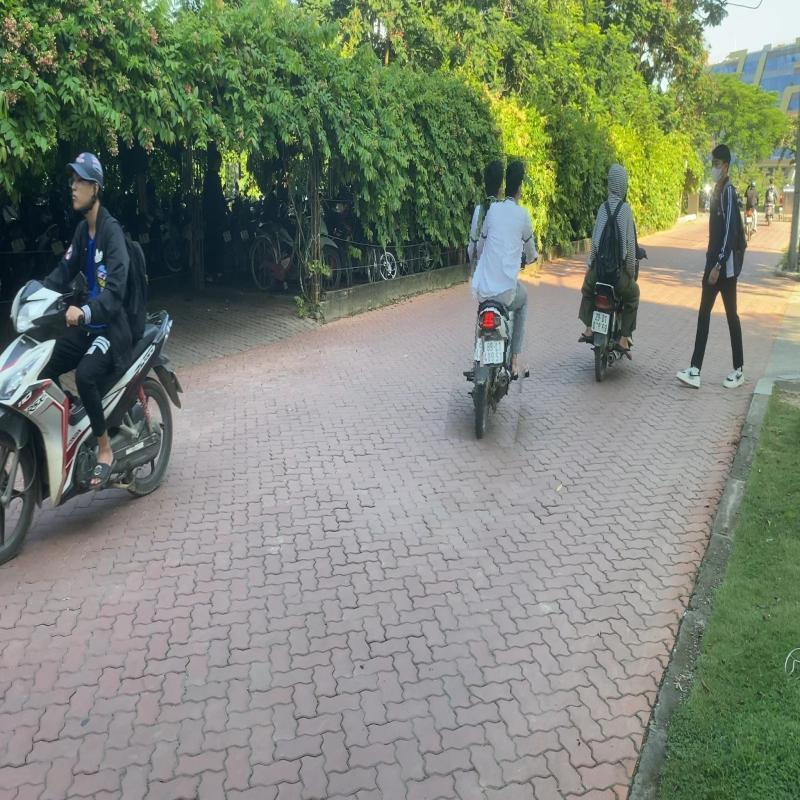licenseplate: (480, 336, 507, 367)
motorcyclist: (454, 154, 547, 446)
nohelmet: (482, 156, 507, 200)
